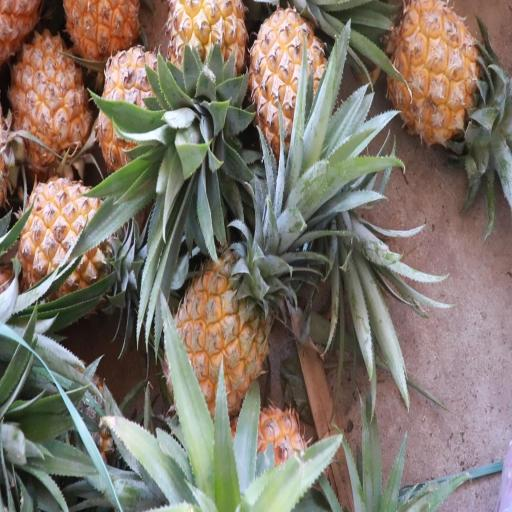Pineapple - v8 v1: (155, 242, 289, 435), (8, 172, 123, 330), (243, 2, 337, 177), (160, 0, 252, 178), (92, 46, 190, 208), (384, 0, 485, 152), (6, 26, 92, 183), (54, 0, 144, 88)
